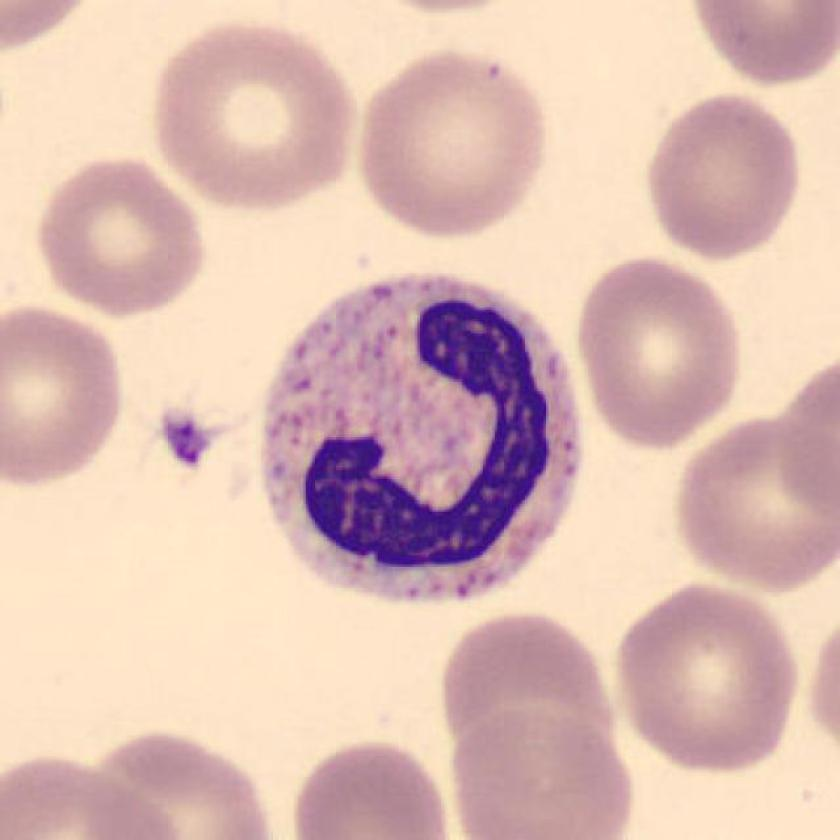neutrophil: (262, 277, 585, 604)
